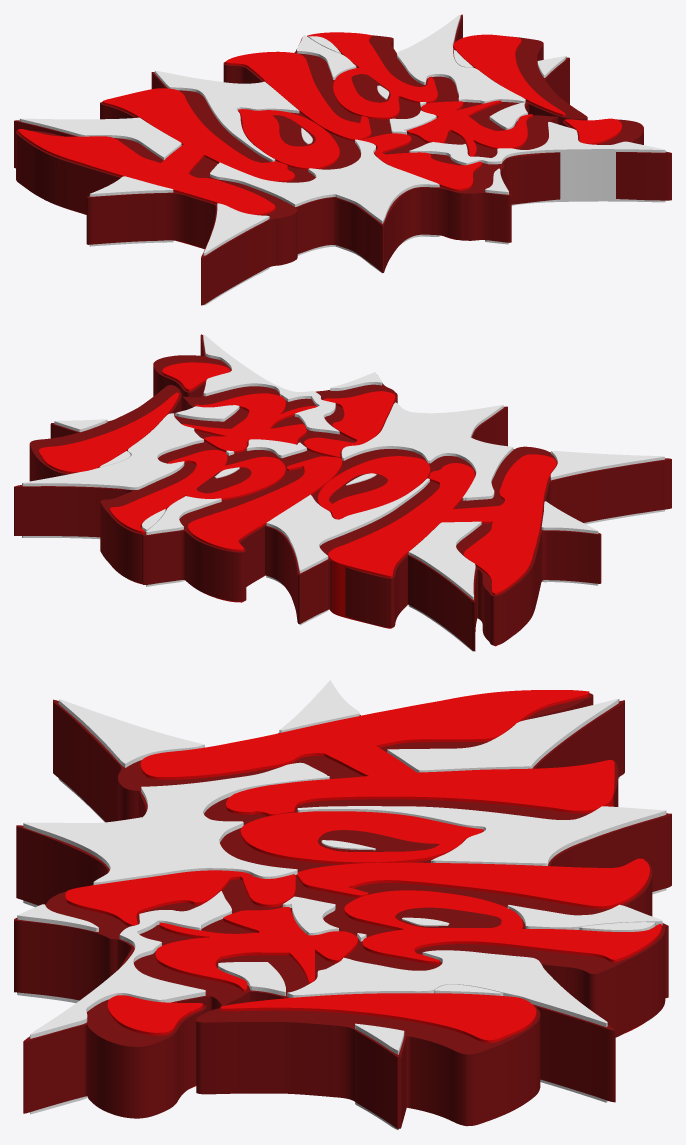
File: HoldIt!.fbx
The picture shows the model from 3 angles, top to bottom: view 1: azimuth 30°, elevation 25°; view 2: azimuth 150°, elevation 25°; view 3: azimuth 270°, elevation 25°; orthographic projection. The views are drawn at different scales.
Parts seen in each view (by area): view 1: Hold It!; view 2: Hold It!; view 3: Hold It!.
Part boxes in pixels (x1,y1,x2,y2): Hold It!: [14, 14, 671, 305]; Hold It!: [14, 334, 671, 651]; Hold It!: [14, 680, 671, 1130].
Size of the model in its own units: 21.79 by 2.16 by 16.17.
